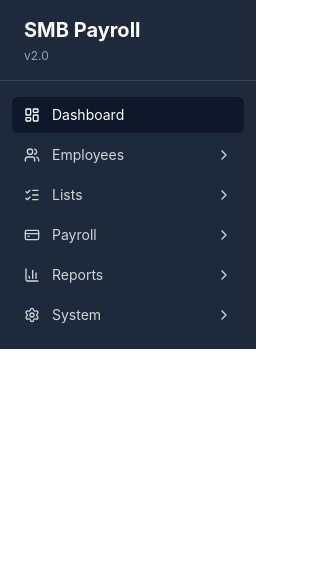
Sidebar › Navigation Links › expands child items when section header is clicked
This screenshot has width=320, height=566.
Click the button with aria-label "Employees section". click: click(128, 155)
box: [12, 137, 244, 173]
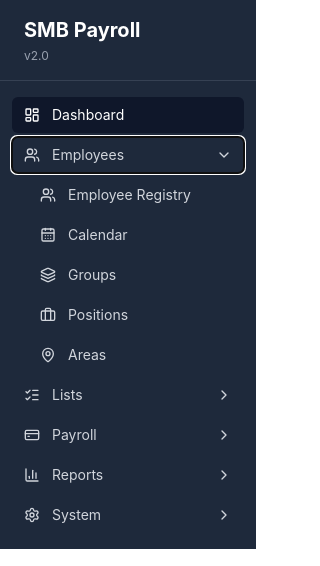
expect the text "Employee Registry" is shown: met, box [68, 185, 191, 205]
expect the text "Calendar" is shown: met, box [68, 225, 128, 245]
expect the text "Groups" is shown: met, box [68, 265, 116, 285]
